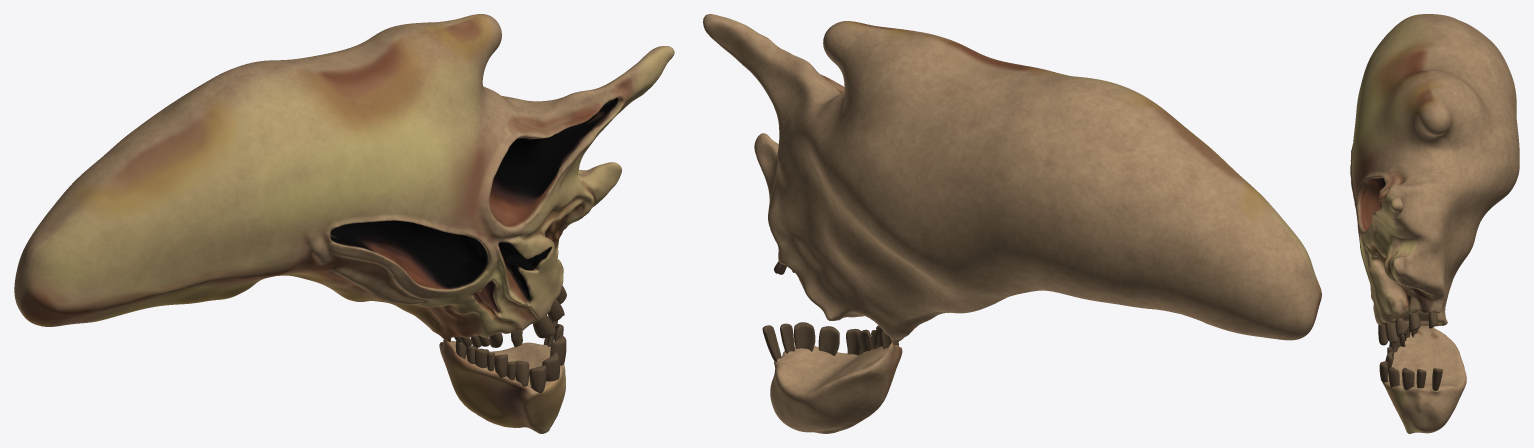
Rendered from DeathOutsideTheHead.012.glb.
The picture shows the model from 3 angles, left to right: view 1: azimuth 30°, elevation 25°; view 2: azimuth 150°, elevation 25°; view 3: azimuth 270°, elevation 25°; orthographic projection. The views are drawn at different scales.
Parts seen in each view (by area): view 1: skull_jaw.001; view 2: skull_jaw.001; view 3: skull_jaw.001.
Boxes of the visible parts, box(x1,y1,x2,y2) form: skull_jaw.001: box(14, 14, 674, 433); skull_jaw.001: box(703, 14, 1321, 433); skull_jaw.001: box(1350, 14, 1519, 433).
Size of the model in its own units: 4.41 by 2.82 by 1.38.
2 materials, 2 textured.
